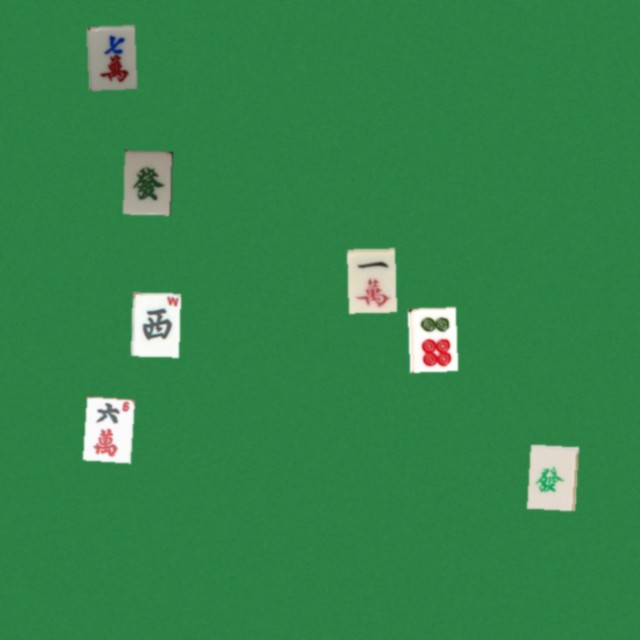tile: (86, 25, 134, 89), (82, 396, 130, 460), (407, 307, 455, 371), (347, 248, 395, 312), (131, 292, 179, 356), (527, 444, 575, 508), (123, 150, 171, 214)
